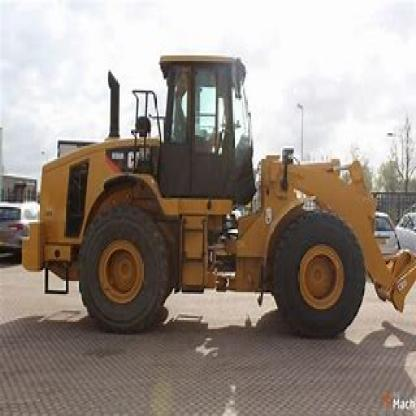bull_dozer/loader/grader: (9, 43, 415, 348)
